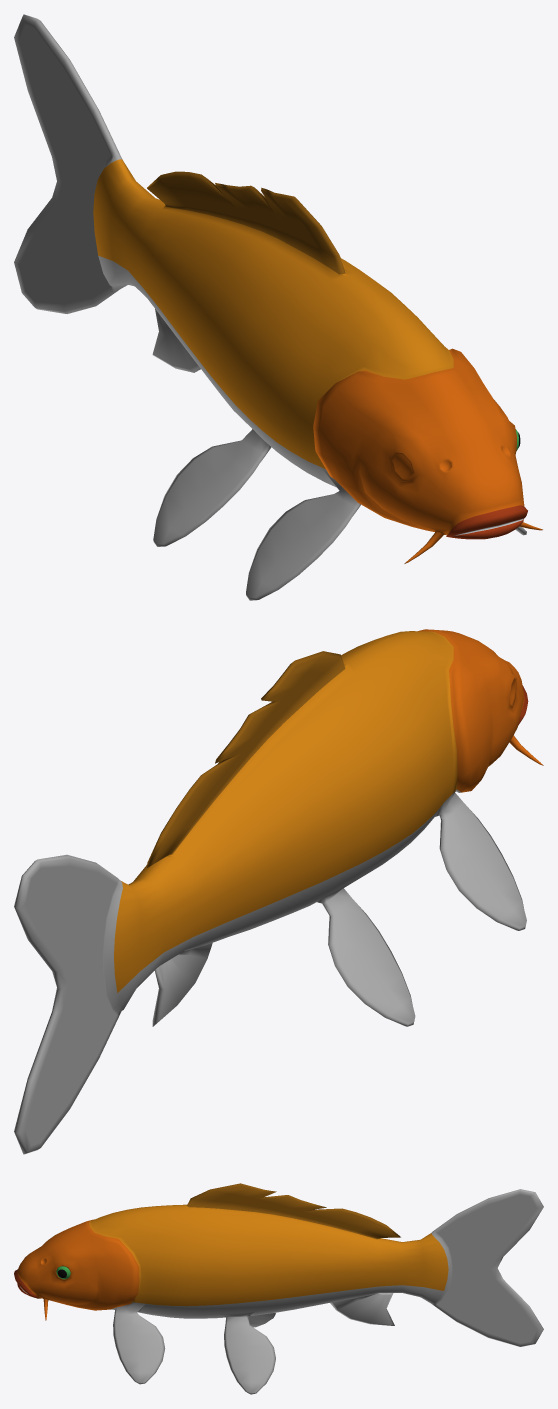
Rendered from koi_fish.obj.
3 views of the same model, one above another, from view 1: azimuth 30°, elevation 25°; view 2: azimuth 150°, elevation 25°; view 3: azimuth 270°, elevation 25° (orthographic). The views are drawn at different scales.
Parts seen in each view (by area): view 1: koi_fish; view 2: koi_fish; view 3: koi_fish.
Part boxes in pixels (<box>): koi_fish: <box>14,14,542,600</box>; koi_fish: <box>14,629,543,1154</box>; koi_fish: <box>14,1183,543,1394</box>.
Size of the model in its own units: 0.0981 by 0.1111 by 0.3006.
